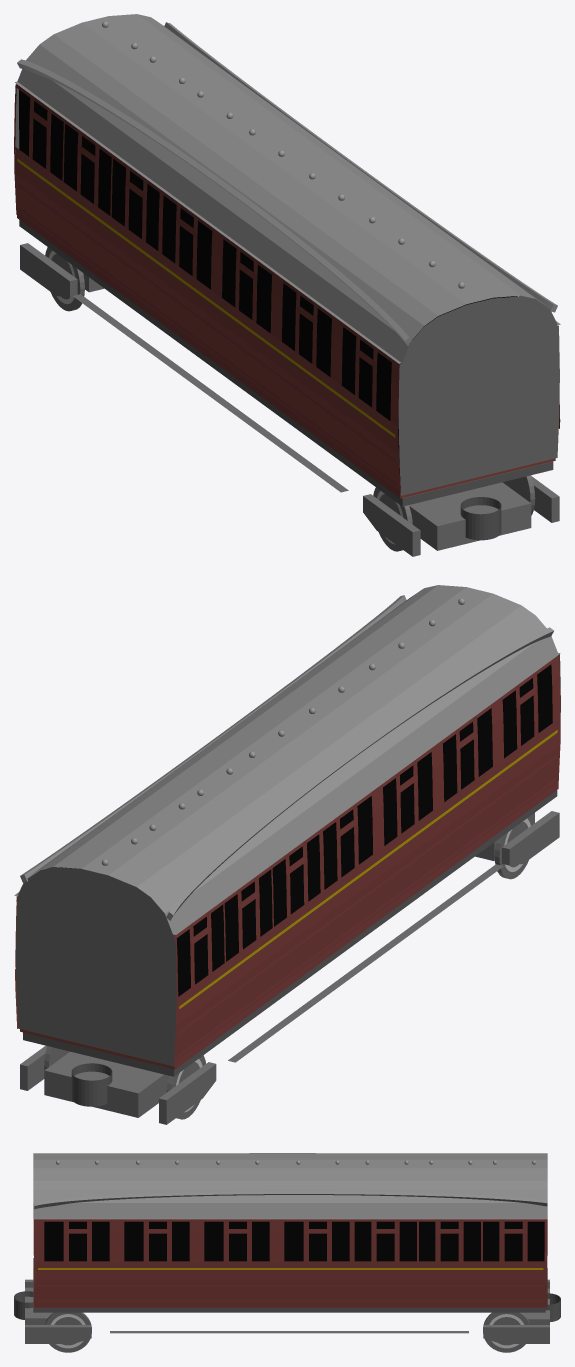
Rendered from lner-quad-art-f-com-maroon.dae.
3 views of the same model, one above another, from view 1: azimuth 30°, elevation 25°; view 2: azimuth 150°, elevation 25°; view 3: azimuth 270°, elevation 25° (orthographic). The views are drawn at different scales.
Parts seen in each view (by area): view 1: Plane_083, Plane_001, Plane_359, Plane_019, Plane_002, Cube, Plane_010, Plane_007, Plane_004, Plane_012, Cube_029, Cube_001 (+2 smaller); view 2: Plane_083, Plane_006, Plane_359, Plane_019, Plane_002, Cube_001, Plane_010, Plane_007, Plane_004, Plane_012, Cube_029, Cube (+2 smaller); view 3: Plane_002, Plane_359, Plane_019, Plane_009, Plane_083, Plane_016, Cube, Cube_001, Cube_028, Plane_007, Plane_008, Plane_012.
Part boxes in pixels (<box>): Plane_083: <box>15,19,479,363</box>; Plane_001: <box>398,296,559,495</box>; Plane_359: <box>14,84,559,492</box>; Plane_019: <box>19,90,514,488</box>; Plane_002: <box>96,14,560,324</box>; Cube: <box>363,475,559,556</box>; Plane_010: <box>159,191,399,436</box>; Plane_007: <box>19,220,553,506</box>; Plane_004: <box>15,95,161,262</box>; Plane_012: <box>17,210,555,498</box>; Cube_029: <box>17,59,411,345</box>; Cube_001: <box>20,243,103,311</box>; Plane_083: <box>95,590,560,934</box>; Plane_006: <box>16,867,176,1066</box>; Plane_359: <box>15,655,560,1066</box>; Plane_019: <box>61,664,552,996</box>; Plane_002: <box>14,585,478,896</box>; Cube_001: <box>20,1045,216,1124</box>; Plane_010: <box>320,655,560,901</box>; Plane_007: <box>23,790,557,1076</box>; Plane_004: <box>178,830,321,1006</box>; Plane_012: <box>20,781,558,1069</box>; Cube_029: <box>166,627,553,920</box>; Cube: <box>475,811,559,879</box>; Plane_002: <box>33,1163,547,1219</box>; Plane_359: <box>33,1219,547,1306</box>; Plane_019: <box>44,1221,544,1261</box>; Plane_009: <box>34,1219,352,1267</box>; Plane_083: <box>33,1153,547,1163</box>; Plane_016: <box>353,1219,545,1267</box>; Cube: <box>14,1279,91,1352</box>; Cube_001: <box>483,1279,560,1352</box>; Cube_028: <box>34,1191,547,1209</box>; Plane_007: <box>33,1258,545,1312</box>; Plane_008: <box>110,1331,468,1333</box>; Plane_012: <box>34,1252,546,1307</box>.
Bounding box in the file's own units: 2.08 × 9.05 × 3.13.
